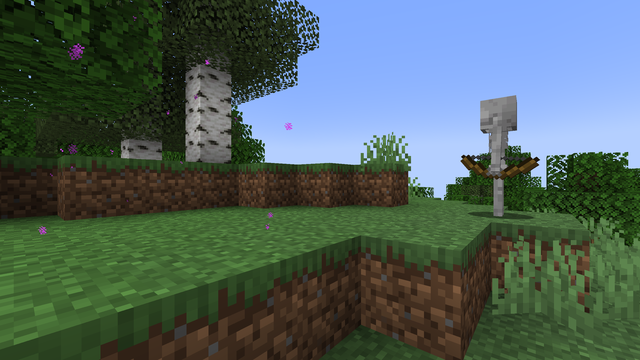squelettes: (476, 94, 521, 218)
